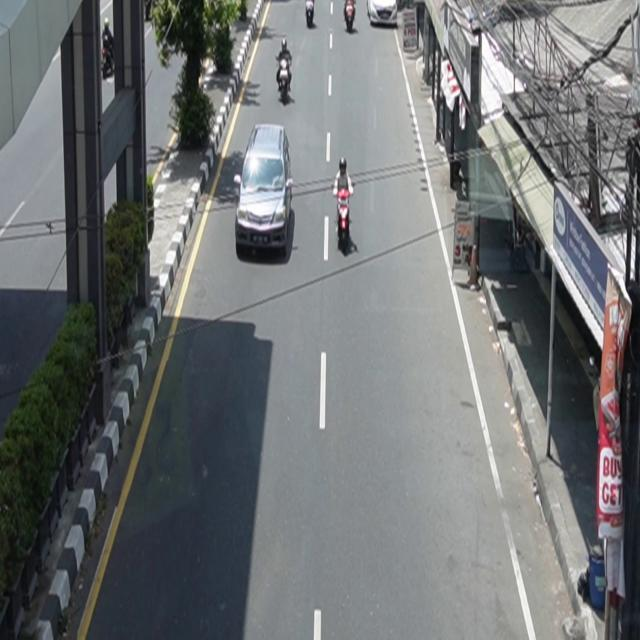car: (235, 124, 295, 256)
